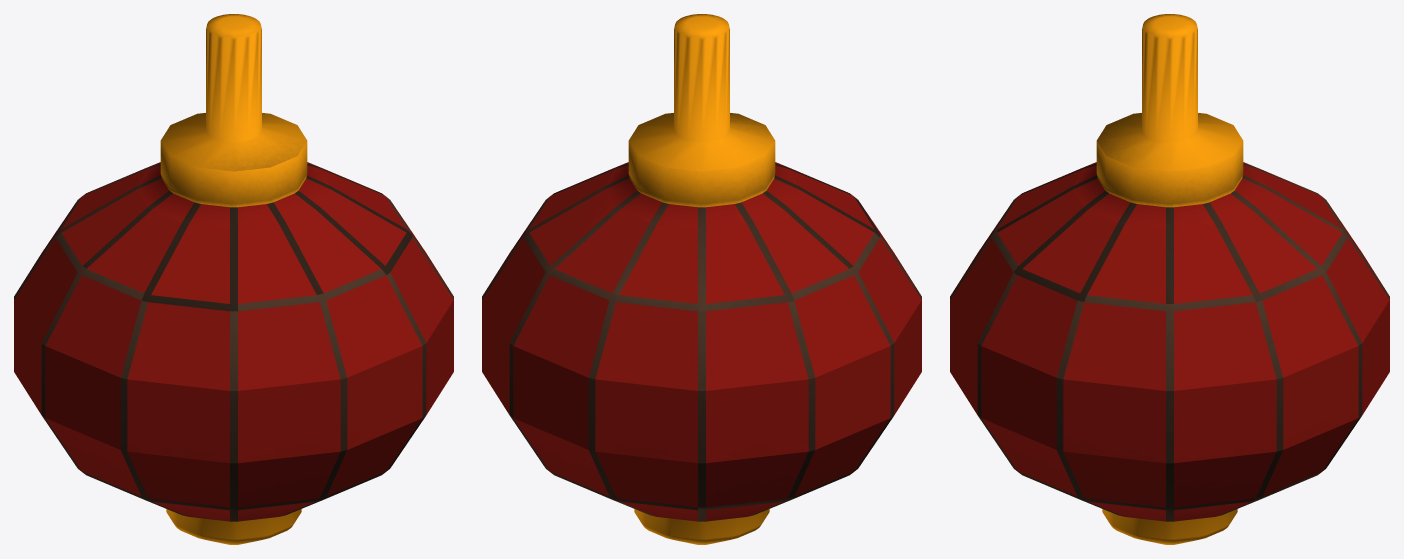
Rendered from Lamp.fbx.
The picture shows the model from 3 angles, left to right: view 1: azimuth 30°, elevation 25°; view 2: azimuth 150°, elevation 25°; view 3: azimuth 270°, elevation 25°; orthographic projection.
Visible parts, largest first — view 1: Sphere; view 2: Sphere; view 3: Sphere.
Part boxes in pixels (box(x1,y1,x2,y2)): Sphere: box(14, 14, 453, 544); Sphere: box(482, 14, 921, 544); Sphere: box(950, 14, 1389, 544).
Bounding box in the file's own units: 194 × 251 × 194.
